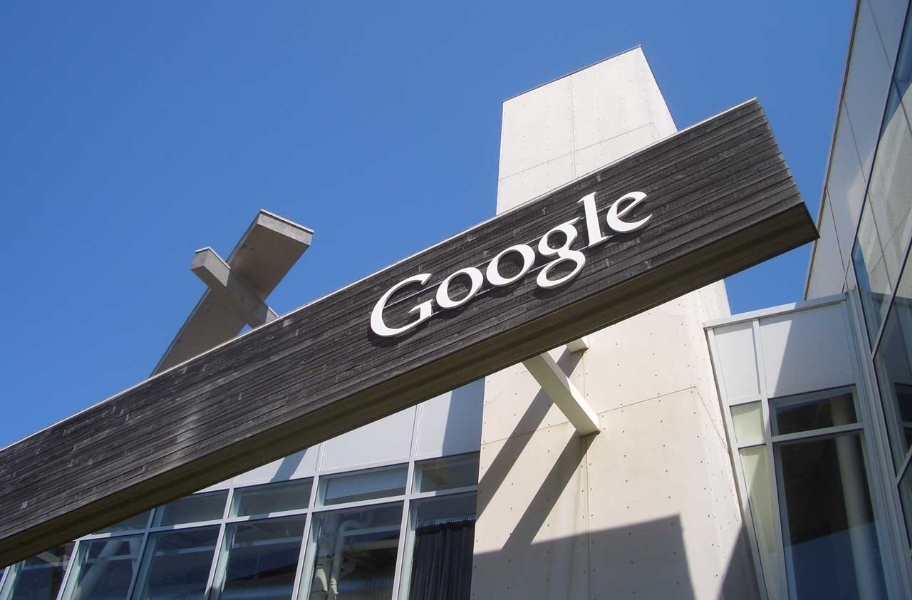text: (369, 172, 384, 360), (385, 172, 400, 360), (401, 172, 416, 360), (417, 172, 432, 360), (433, 172, 448, 360), (449, 172, 464, 360), (465, 172, 480, 360), (481, 172, 496, 360), (497, 172, 512, 360), (513, 172, 528, 360), (529, 172, 544, 360), (545, 172, 560, 360), (561, 172, 576, 360), (577, 172, 592, 360), (593, 172, 608, 360), (609, 172, 624, 360), (625, 172, 640, 360), (641, 172, 656, 360), (657, 172, 672, 360), (362, 172, 368, 360)
